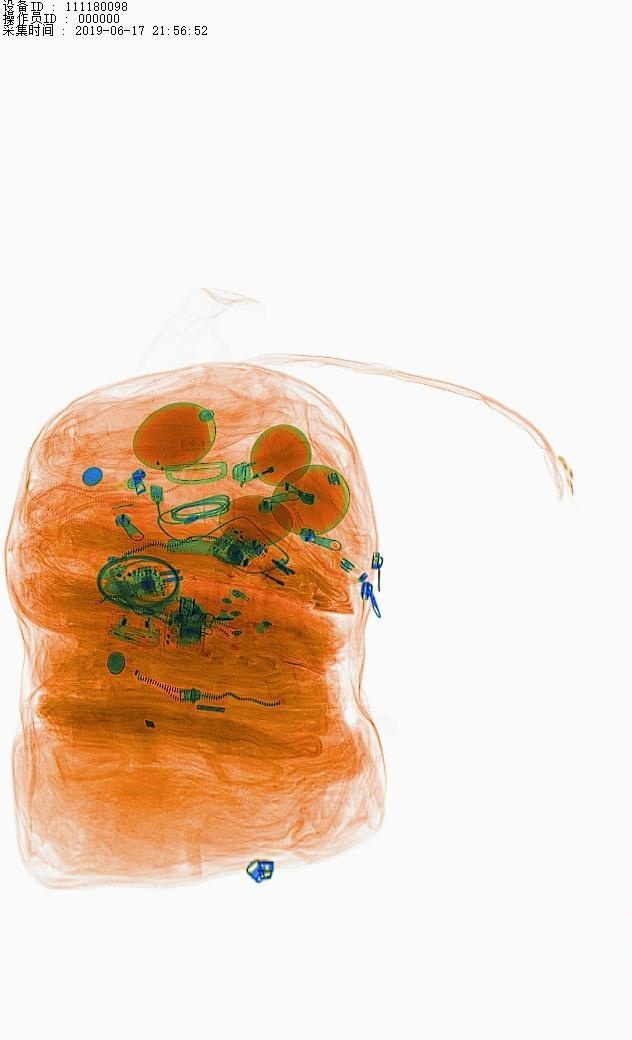NonmetallicFire: (223, 430, 318, 496)
